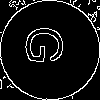G: (25, 25, 73, 66)
